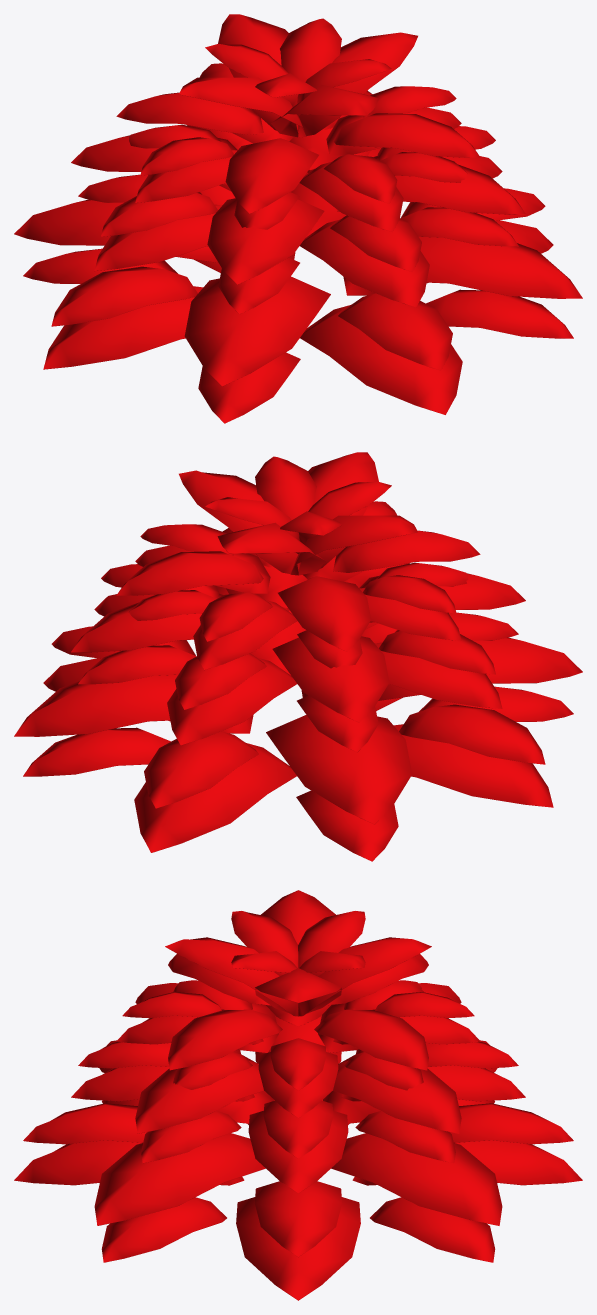
Rendered from follaje1.fbx.
The picture shows the model from 3 angles, top to bottom: view 1: azimuth 30°, elevation 25°; view 2: azimuth 150°, elevation 25°; view 3: azimuth 270°, elevation 25°; orthographic projection. The views are drawn at different scales.
Visible parts, largest first — view 1: Plano.086, Plano.075, Plano.088, Plano.074, Plano.091, Plano.082, Plano.083, Plano.118, Plano.078, Plano.102, Plano.120, Plano.103 (+34 smaller); view 2: Plano.087, Plano.076, Plano.085, Plano.074, Plano.090, Plano.082, Plano.084, Plano.119, Plano.080, Plano.101, Plano.117, Plano.103 (+34 smaller); view 3: Plano.088, Plano.085, Plano.073, Plano.081, Plano.089, Plano.092, Plano.117, Plano.120, Plano.078, Plano.080, Plano.104, Plano.076 (+36 smaller).
Boxes of the visible parts, <box> form: Plano.086: <box>184,276,330,386</box>; Plano.075: <box>300,305,462,414</box>; Plano.088: <box>419,236,582,298</box>; Plano.074: <box>43,286,202,369</box>; Plano.091: <box>207,198,324,284</box>; Plano.082: <box>51,266,197,326</box>; Plano.083: <box>338,293,452,370</box>; Plano.118: <box>225,138,318,213</box>; Plano.078: <box>426,289,573,338</box>; Plano.102: <box>300,219,429,307</box>; Plano.120: <box>333,113,480,157</box>; Plano.103: <box>94,204,221,271</box>; Plano.087: <box>266,715,412,824</box>; Plano.076: <box>134,743,296,852</box>; Plano.085: <box>14,674,177,736</box>; Plano.074: <box>394,724,553,807</box>; Plano.090: <box>272,636,389,722</box>; Plano.082: <box>399,704,545,764</box>; Plano.084: <box>144,731,258,808</box>; Plano.119: <box>278,576,371,651</box>; Plano.080: <box>23,727,170,776</box>; Plano.101: <box>167,657,296,745</box>; Plano.117: <box>116,551,263,595</box>; Plano.103: <box>375,642,502,709</box>; Plano.088: <box>94,1133,265,1225</box>; Plano.085: <box>331,1133,502,1225</box>; Plano.073: <box>236,1197,360,1300</box>; Plano.081: <box>254,1181,342,1257</box>; Plano.089: <box>135,1060,263,1133</box>; Plano.092: <box>333,1060,461,1133</box>; Plano.117: <box>314,1009,428,1070</box>; Plano.120: <box>168,1009,282,1070</box>; Plano.078: <box>101,1197,226,1262</box>; Plano.080: <box>370,1197,495,1262</box>; Plano.104: <box>248,1110,348,1193</box>; Plano.076: <box>352,1140,582,1185</box>.
Bounding box in the file's own units: 843 × 402 × 843.
